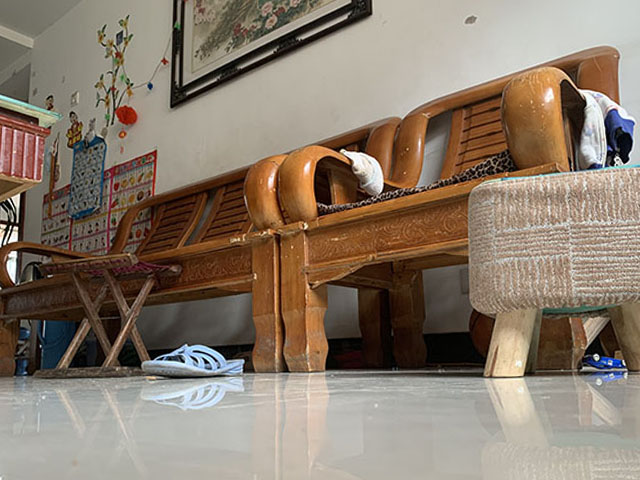slippers: (139, 341, 246, 378)
sofa: (274, 43, 625, 375), (1, 113, 396, 376)
stool: (470, 164, 640, 378), (33, 252, 186, 380)
